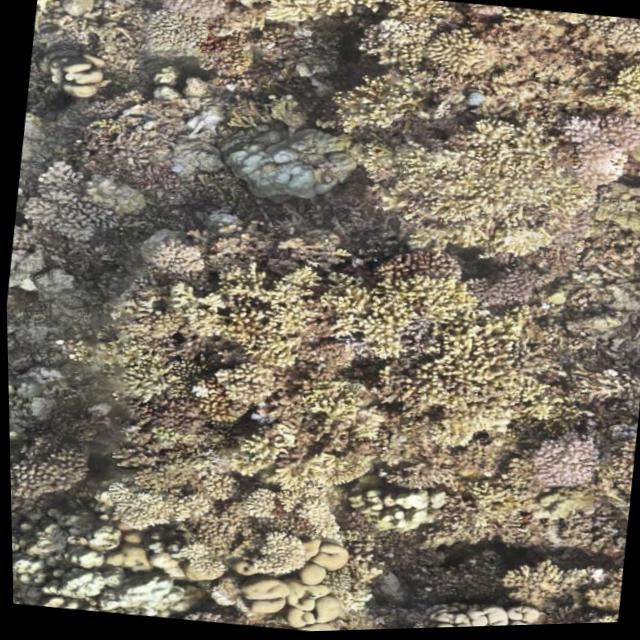Bleached Coral: (10, 498, 185, 623), (208, 121, 365, 218), (541, 106, 640, 201), (148, 88, 233, 194), (238, 392, 288, 437)
Healthy Coral: (314, 238, 544, 493), (377, 56, 542, 256), (149, 256, 318, 373), (518, 425, 604, 523), (413, 580, 556, 631), (145, 0, 230, 62)
